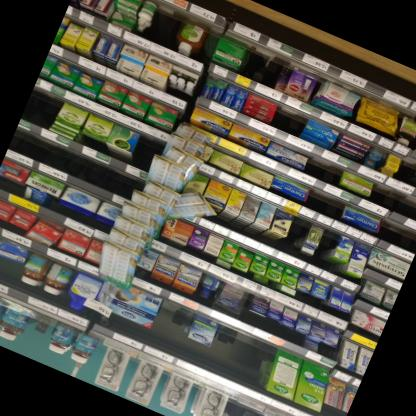empty_space: (5, 121, 136, 204), (200, 313, 273, 386), (148, 294, 198, 356), (244, 34, 290, 89), (368, 172, 416, 224), (145, 0, 192, 48), (21, 76, 63, 127), (304, 179, 348, 219), (271, 93, 311, 136), (304, 145, 345, 184), (378, 212, 416, 252)
